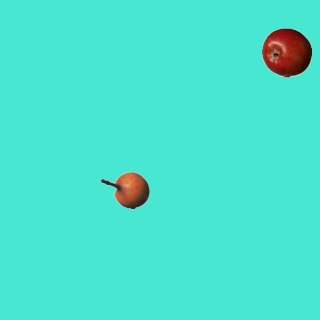Apple Braeburn: (261, 27, 311, 77)
Granadilla: (99, 165, 149, 215)
